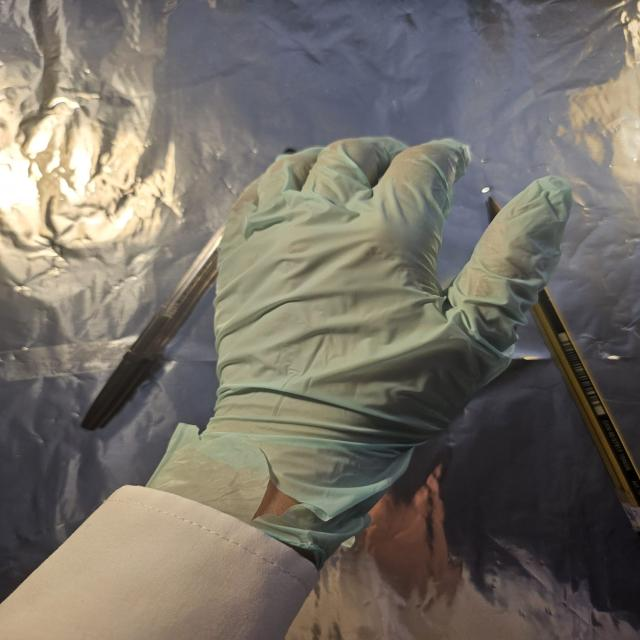gloves_damaged: (143, 136, 579, 565)
